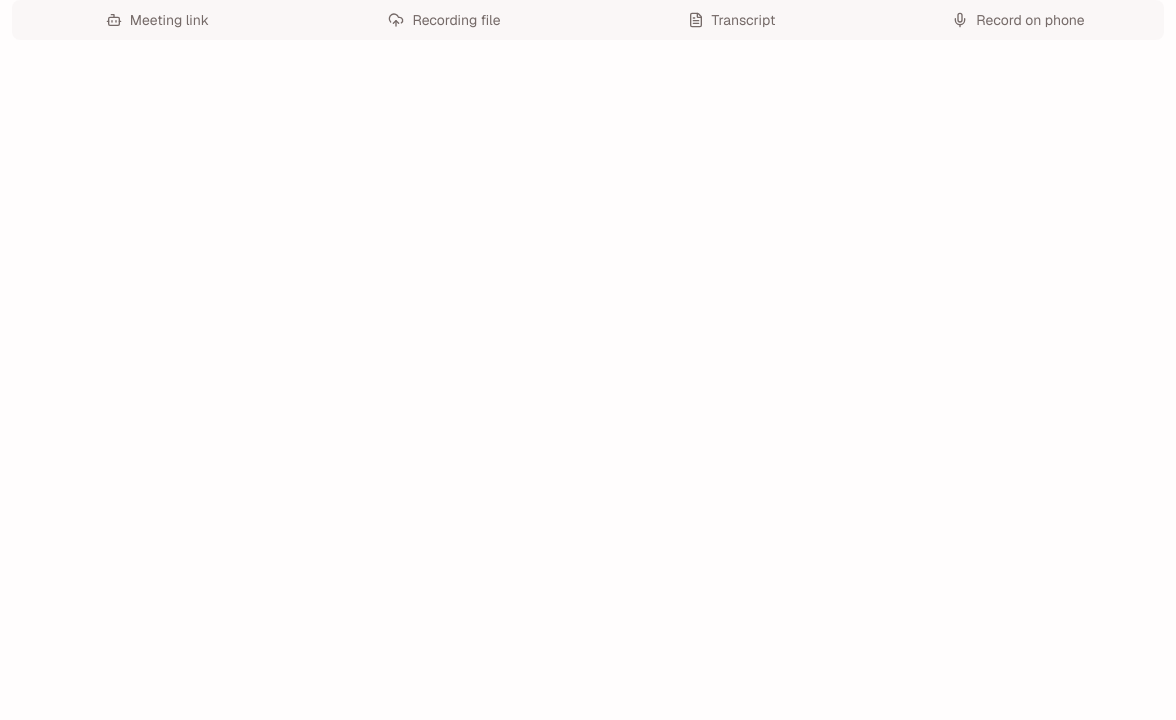
NewMeetingSources › requires transcript content before creating a meeting
Click the button "Transcript": (732, 20) [590,4,873,36]
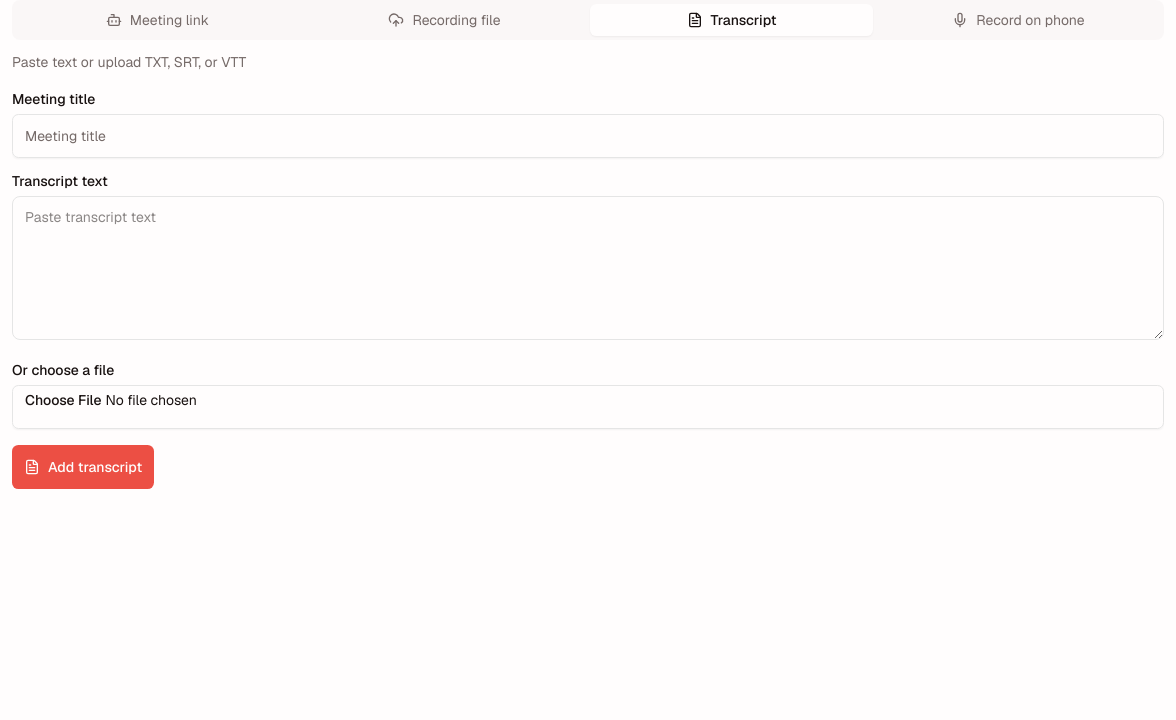
Click the button "Add transcript": (83, 467) [12,445,154,489]
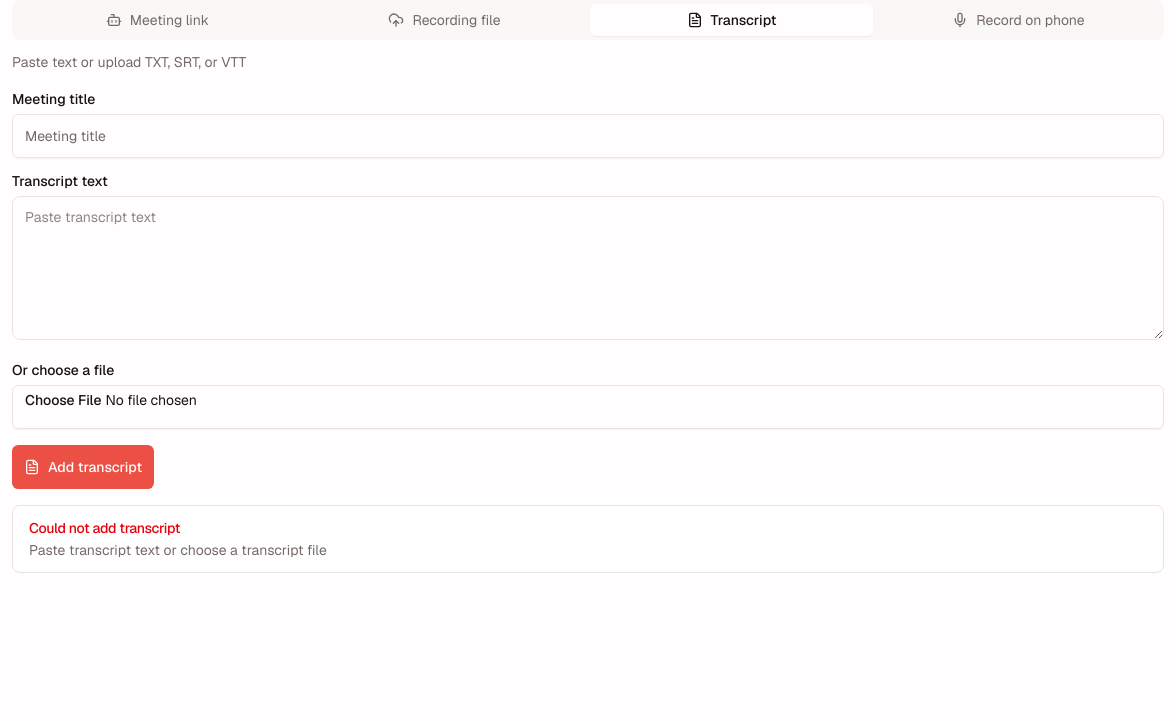
Result: the text "Paste transcript text or choose a transcript file" is shown at [29,541,327,559]
